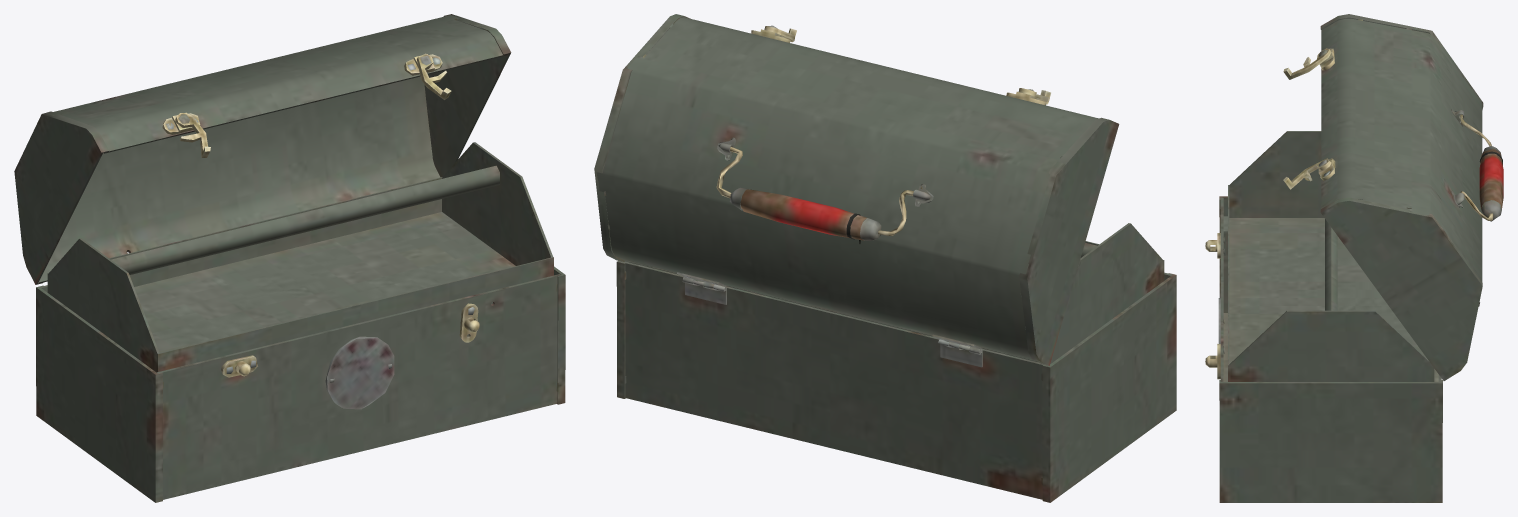
The model's file is metal_toolbox.glb.
The picture shows the model from 3 angles, left to right: view 1: azimuth 30°, elevation 25°; view 2: azimuth 150°, elevation 25°; view 3: azimuth 270°, elevation 25°; orthographic projection. The views are drawn at different scales.
Parts seen in each view (by area): view 1: metal_toolbox; view 2: metal_toolbox; view 3: metal_toolbox.
Boxes of the visible parts, x1=… form: metal_toolbox: x1=14, y1=14, x2=565, y2=502; metal_toolbox: x1=594, y1=14, x2=1176, y2=502; metal_toolbox: x1=1205, y1=14, x2=1503, y2=502.
Size of the model in its own units: 0.4 by 0.3047 by 0.2698.
1 material, 1 textured.
